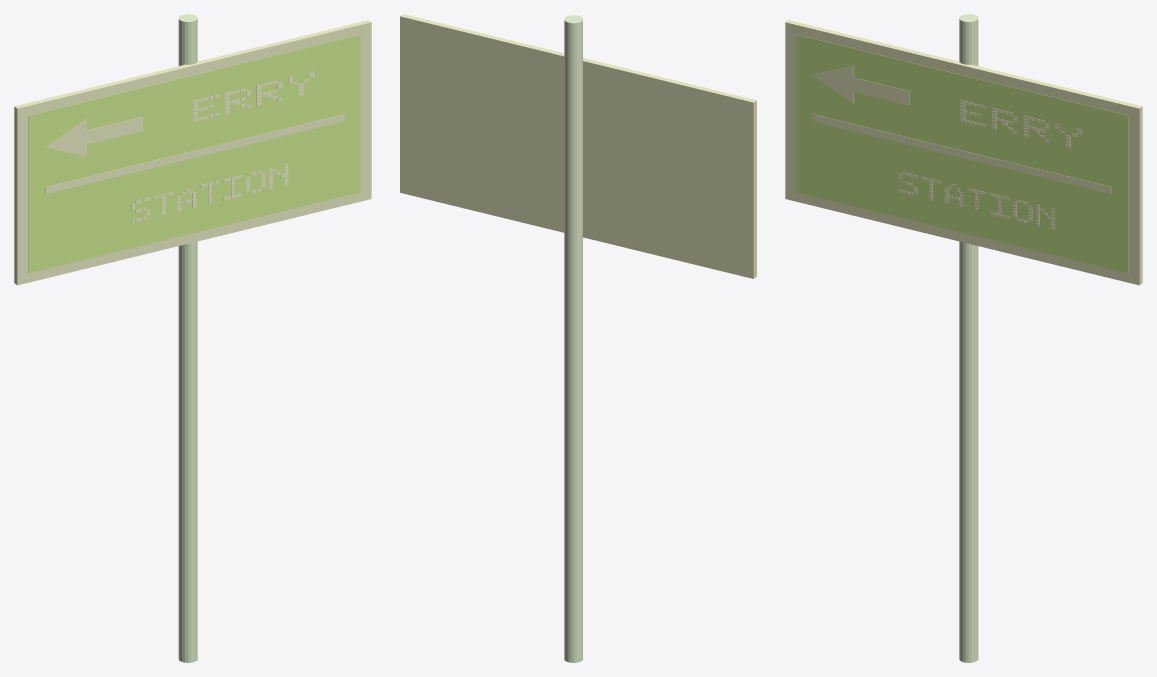
Rendered from sign_destination_stack_station_ferry_left.glb.
The picture shows the model from 3 angles, left to right: view 1: azimuth 30°, elevation 25°; view 2: azimuth 150°, elevation 25°; view 3: azimuth 330°, elevation 25°; orthographic projection.
Parts seen in each view (by area): view 1: layer_1_00, plate_base_00, pole, layer_2_00, layer_2_166, layer_2_167; view 2: plate_base_00, pole; view 3: layer_1_00, plate_base_00, pole, layer_2_00, layer_2_166, layer_2_167.
Boxes of the visible parts, x1=… form: layer_1_00: x1=28, y1=34, x2=360, y2=273; plate_base_00: x1=14, y1=20, x2=371, y2=285; pole: x1=178, y1=14, x2=197, y2=662; layer_2_00: x1=45, y1=114, x2=344, y2=193; layer_2_166: x1=87, y1=116, x2=142, y2=144; layer_2_167: x1=46, y1=118, x2=86, y2=156; plate_base_00: x1=400, y1=14, x2=756, y2=278; pole: x1=564, y1=15, x2=582, y2=662; layer_1_00: x1=796, y1=34, x2=1128, y2=273; plate_base_00: x1=785, y1=20, x2=1142, y2=285; pole: x1=959, y1=14, x2=978, y2=662; layer_2_00: x1=812, y1=114, x2=1111, y2=193; layer_2_166: x1=853, y1=77, x2=909, y2=105; layer_2_167: x1=813, y1=65, x2=853, y2=103.
Bounding box in the file's own units: 1.27 × 2.2 × 0.0725.
